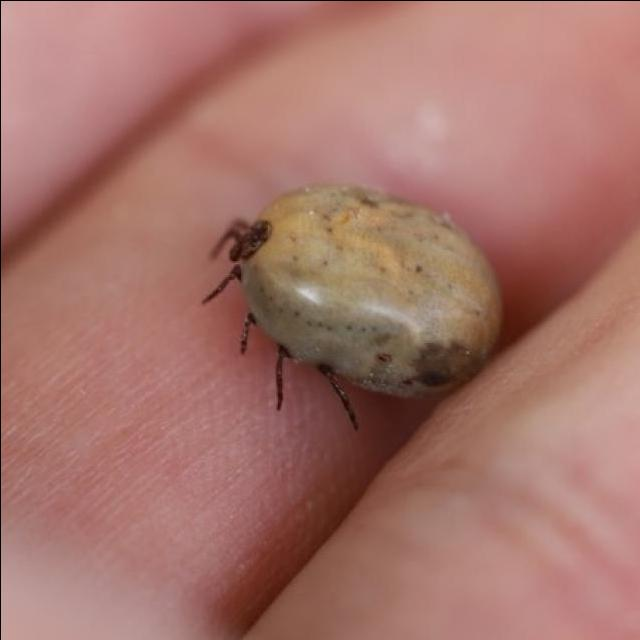Dermacentor Reticulatus-F-Fed: (201, 184, 503, 432)
